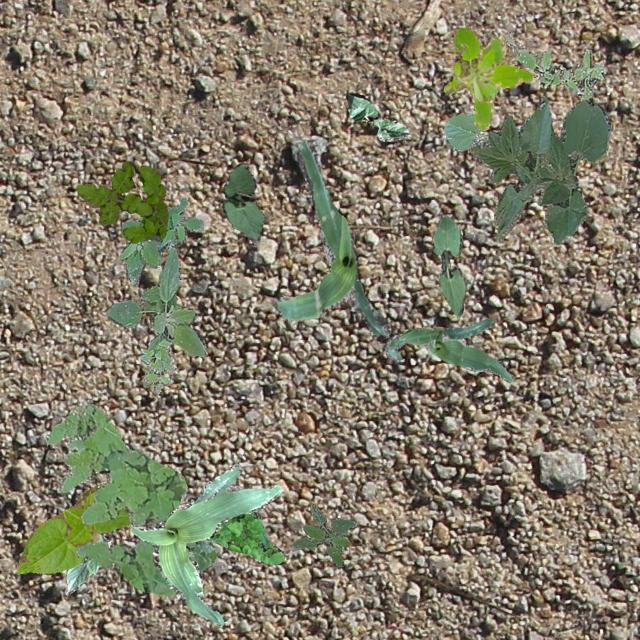crop: (130, 462, 280, 626), (272, 138, 388, 334), (468, 96, 610, 244), (15, 484, 130, 572), (384, 318, 514, 382), (222, 162, 264, 242), (432, 215, 464, 316), (344, 92, 410, 140), (66, 532, 110, 592), (444, 112, 486, 150)
weed: (44, 402, 215, 596), (106, 246, 206, 386), (442, 26, 534, 130), (76, 160, 168, 242), (119, 197, 202, 286), (504, 31, 604, 98), (186, 496, 284, 564), (290, 504, 354, 566), (138, 339, 174, 394)
